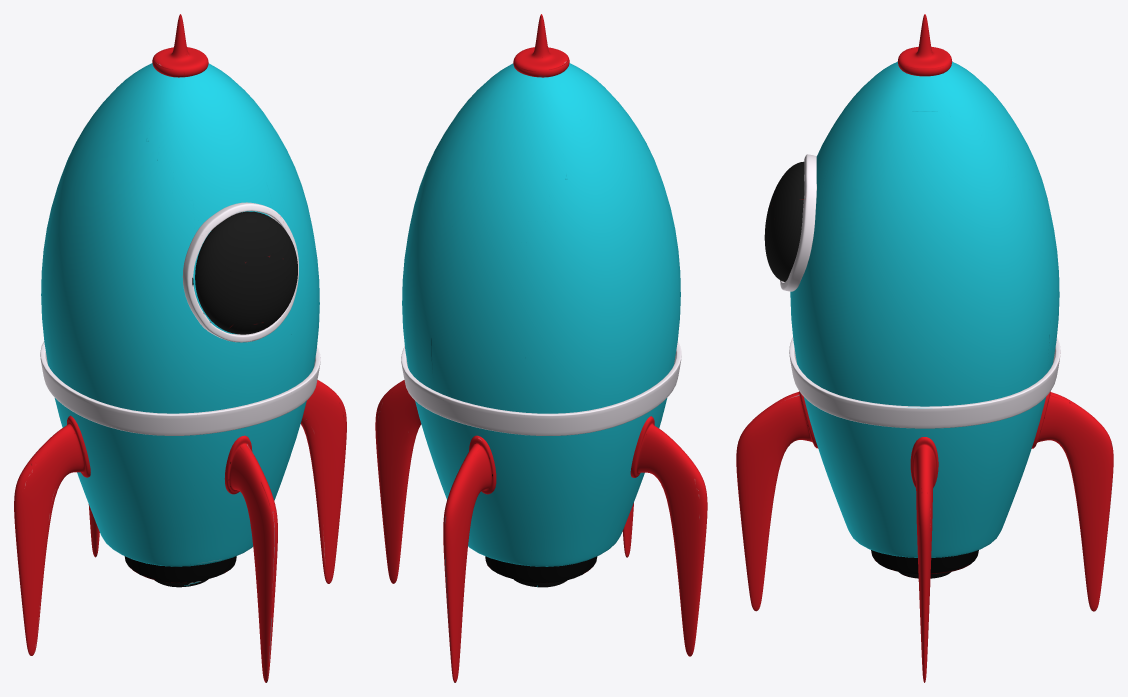
File: cohete2.gltf
The picture shows the model from 3 angles, left to right: view 1: azimuth 30°, elevation 25°; view 2: azimuth 150°, elevation 25°; view 3: azimuth 270°, elevation 25°; orthographic projection.
Visible parts, largest first — view 1: Mesh_0.001; view 2: Mesh_0.001; view 3: Mesh_0.001.
Part boxes in pixels (bbox=[...]): Mesh_0.001: bbox=[14, 14, 346, 682]; Mesh_0.001: bbox=[375, 14, 707, 682]; Mesh_0.001: bbox=[736, 14, 1113, 682].
Size of the model in its own units: 2.73 by 4.78 by 2.73.
Materials: 1 (1 with a texture image).
